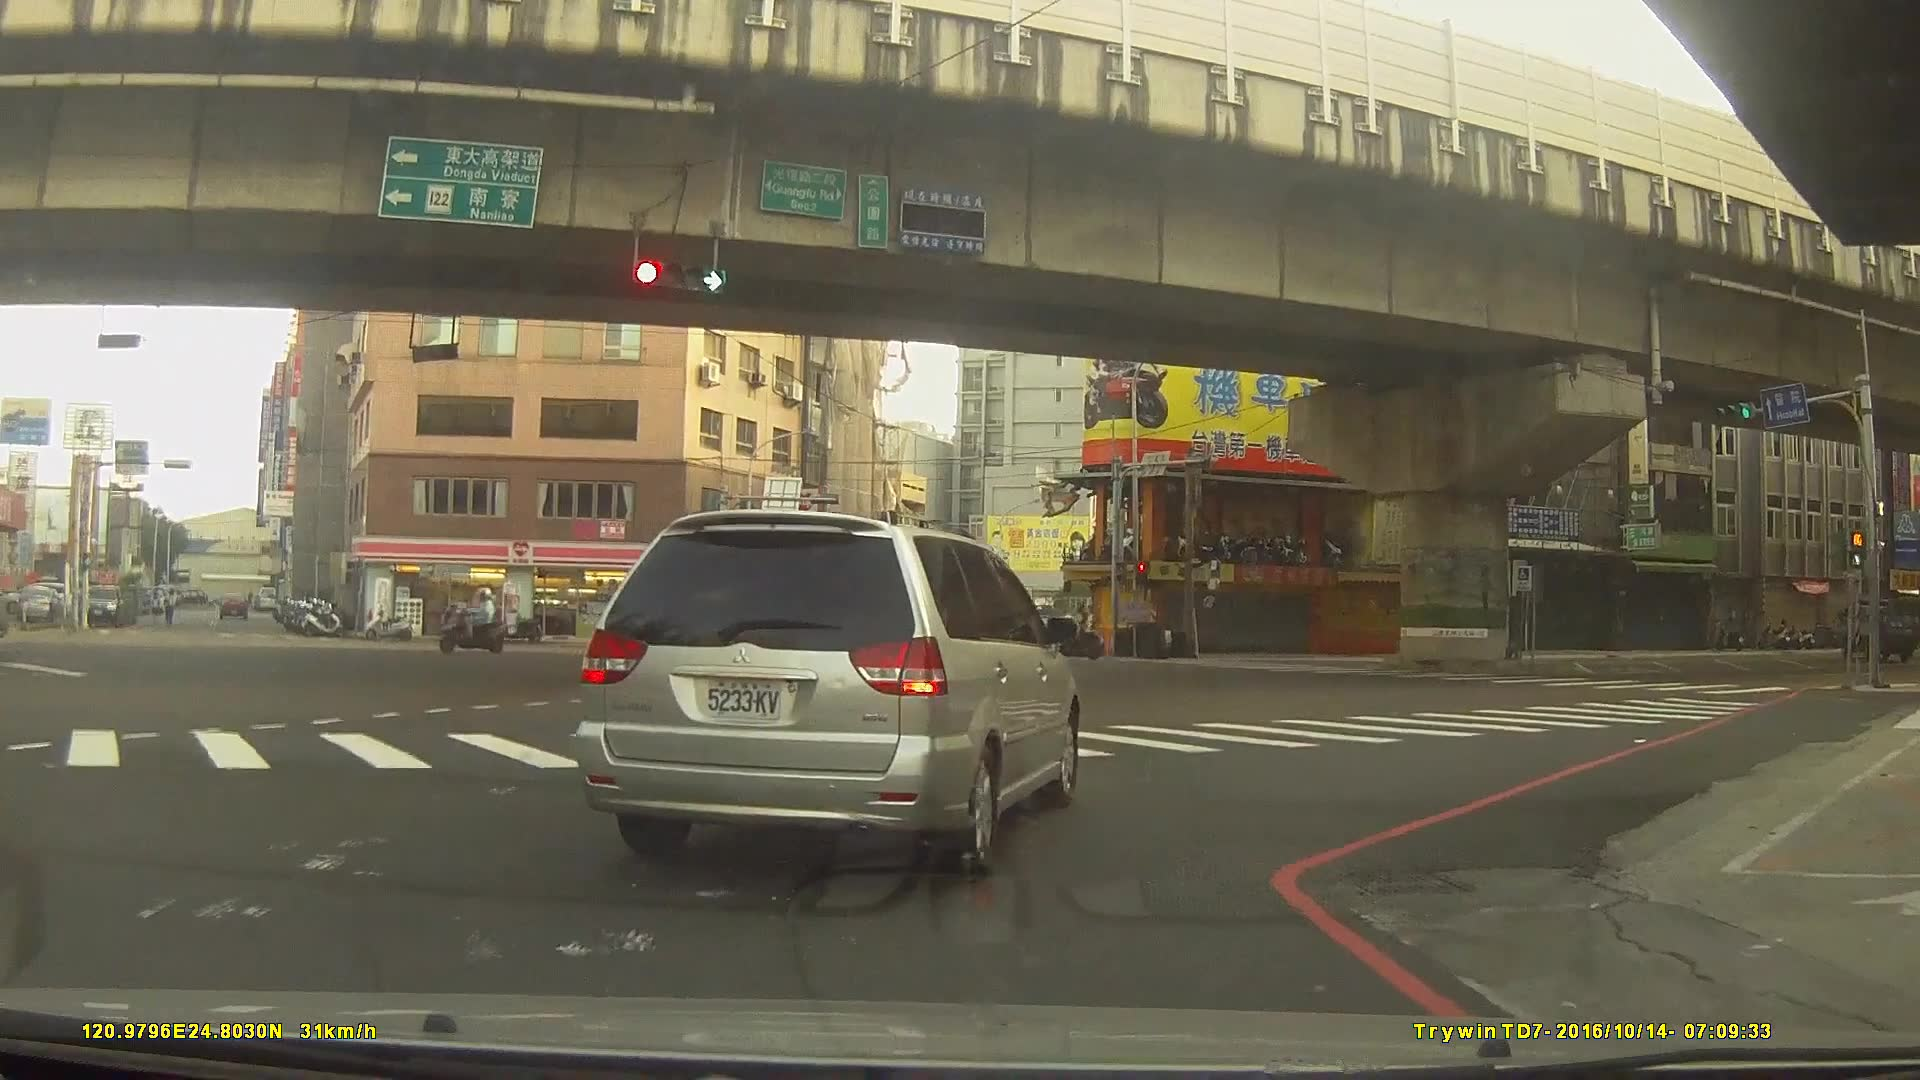rider: (442, 589, 511, 653), (1041, 598, 1101, 658)
vehicle: (572, 507, 1080, 875), (1839, 595, 1917, 662), (873, 626, 941, 665), (82, 582, 125, 627), (543, 606, 605, 633), (215, 590, 251, 622)
